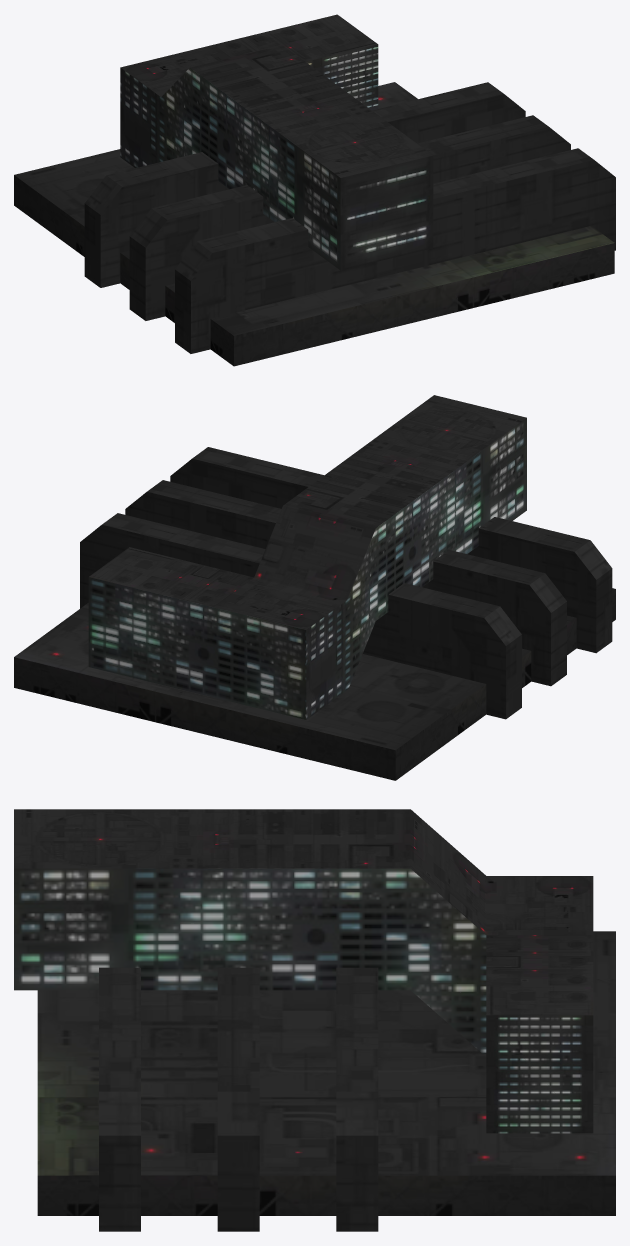
The model's file is scifi_building_51.obj.
3 views of the same model, one above another, from view 1: azimuth 30°, elevation 25°; view 2: azimuth 150°, elevation 25°; view 3: azimuth 270°, elevation 25° (orthographic). The views are drawn at different scales.
Visible parts, largest first — view 1: building_51; view 2: building_51; view 3: building_51.
Part boxes in pixels (<box>): building_51: <box>14,14,615,366</box>; building_51: <box>14,395,615,780</box>; building_51: <box>14,809,615,1231</box>.
Size of the model in its own units: 173 by 66.5 by 161.
1 material, 1 textured.
